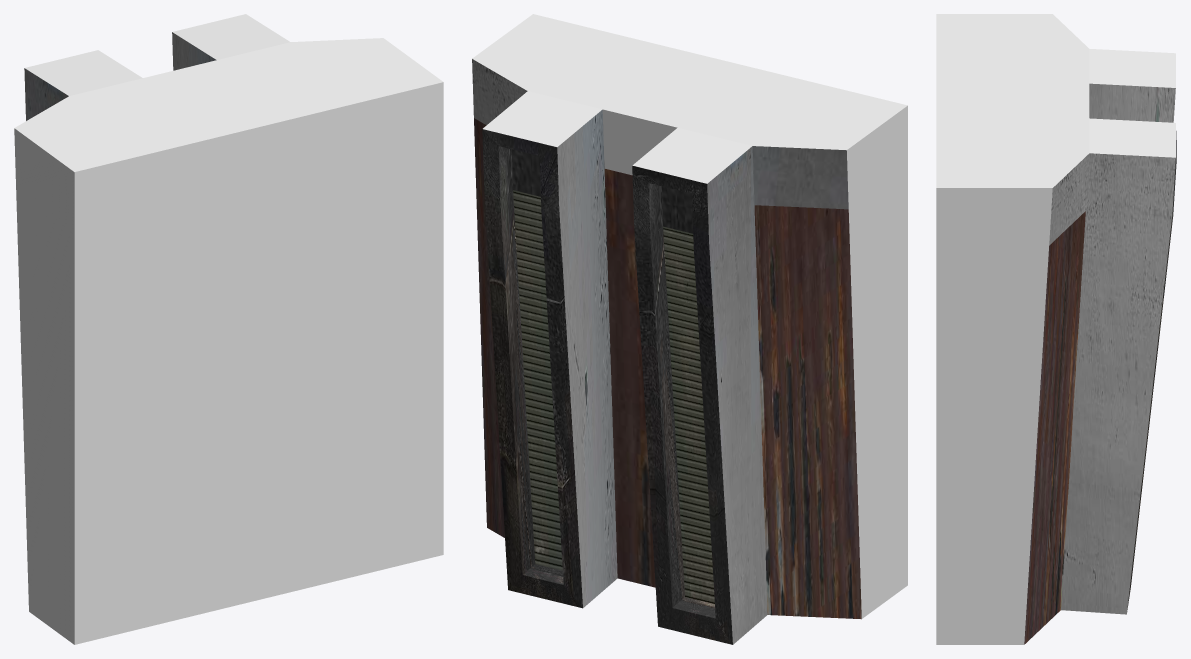
Rendered from terminal.glb.
The picture shows the model from 3 angles, left to right: view 1: azimuth 30°, elevation 25°; view 2: azimuth 150°, elevation 25°; view 3: azimuth 270°, elevation 25°; orthographic projection. The views are drawn at different scales.
Visible parts, largest first — view 1: Cube; view 2: Cube; view 3: Cube.
Boxes of the visible parts, box(x1,y1,x2,y2) form: Cube: box(14, 14, 443, 644); Cube: box(472, 14, 907, 644); Cube: box(936, 14, 1176, 644).
Size of the model in its own units: 9.37 by 11.58 by 5.47.
Materials: 5 (4 with a texture image).
